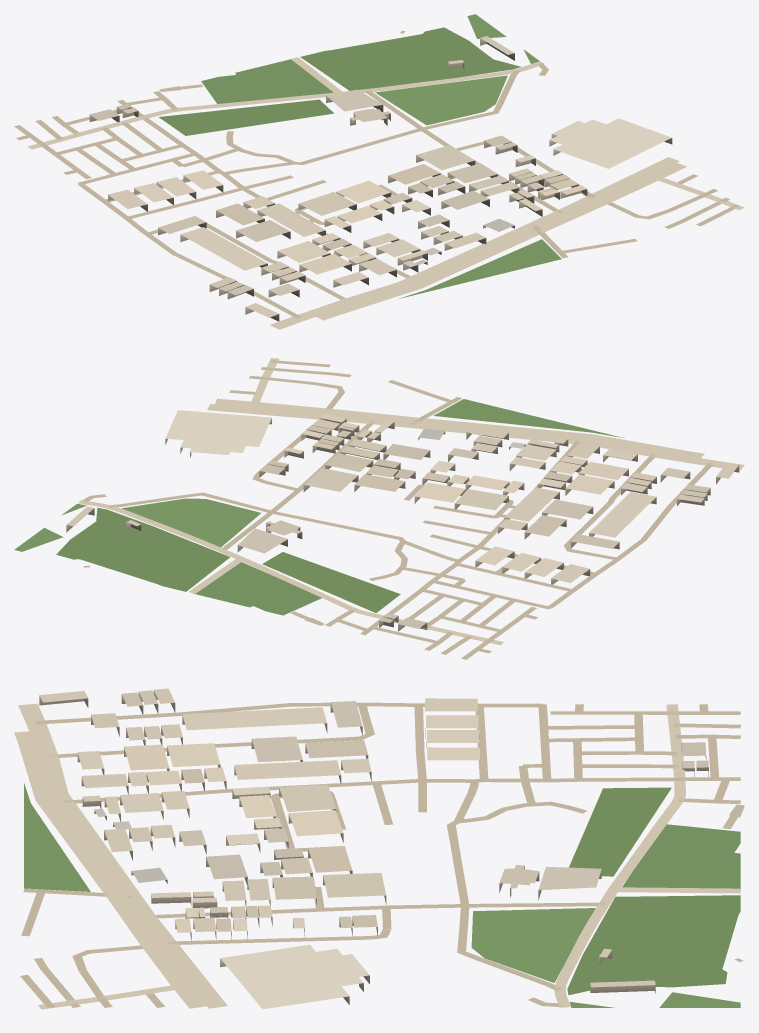
3 views of the same model, one above another, from view 1: azimuth 30°, elevation 25°; view 2: azimuth 150°, elevation 25°; view 3: azimuth 270°, elevation 25° (orthographic). The views are drawn at different scales.
Parts seen in each view (by area): view 1: ground, building; view 2: ground, building; view 3: ground, building.
Boxes of the visible parts, <box> form: ground: <box>14,14,744,329</box>; building: <box>89,36,672,321</box>; ground: <box>14,358,744,659</box>; building: <box>66,410,739,631</box>; ground: <box>14,702,744,1009</box>; building: <box>39,688,708,1009</box>.
Size of the model in its own units: 527 by 8 by 510.
